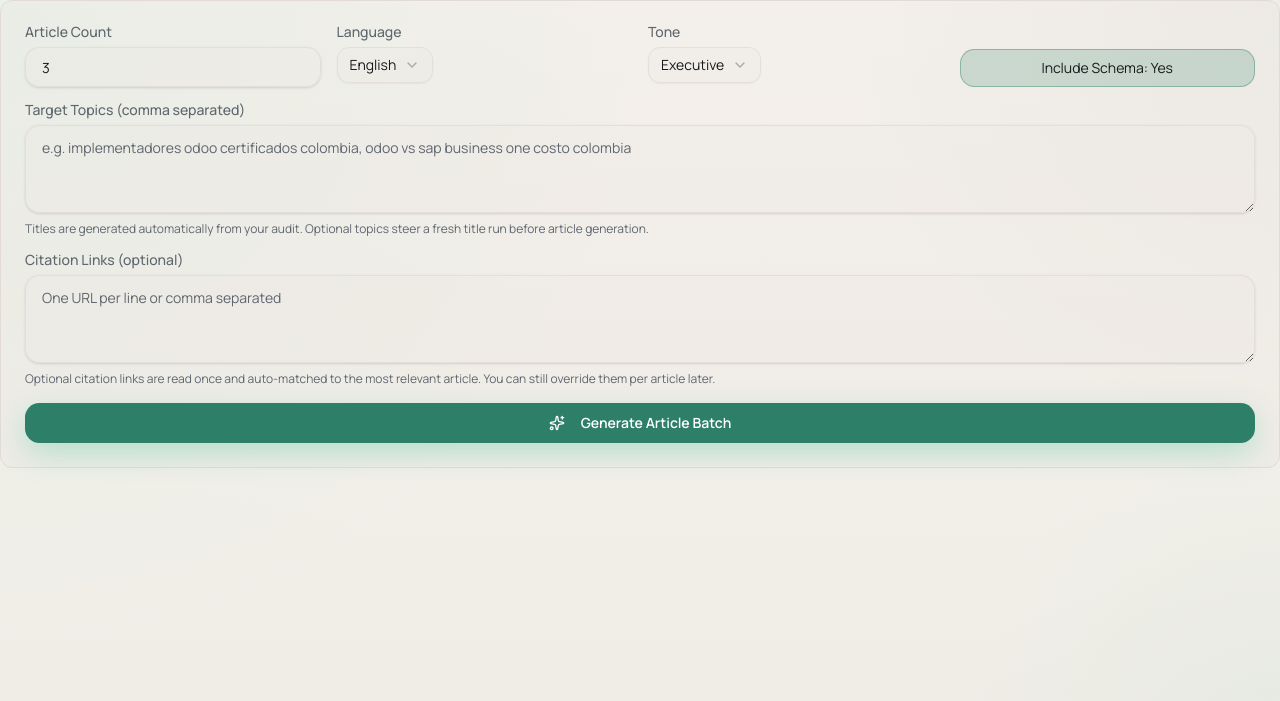
ArticleEngine component › generates a new batch without topics
Click the button "Generate Article Batch" at (640, 423), box [25,403,1255,443]
(page scrolled)
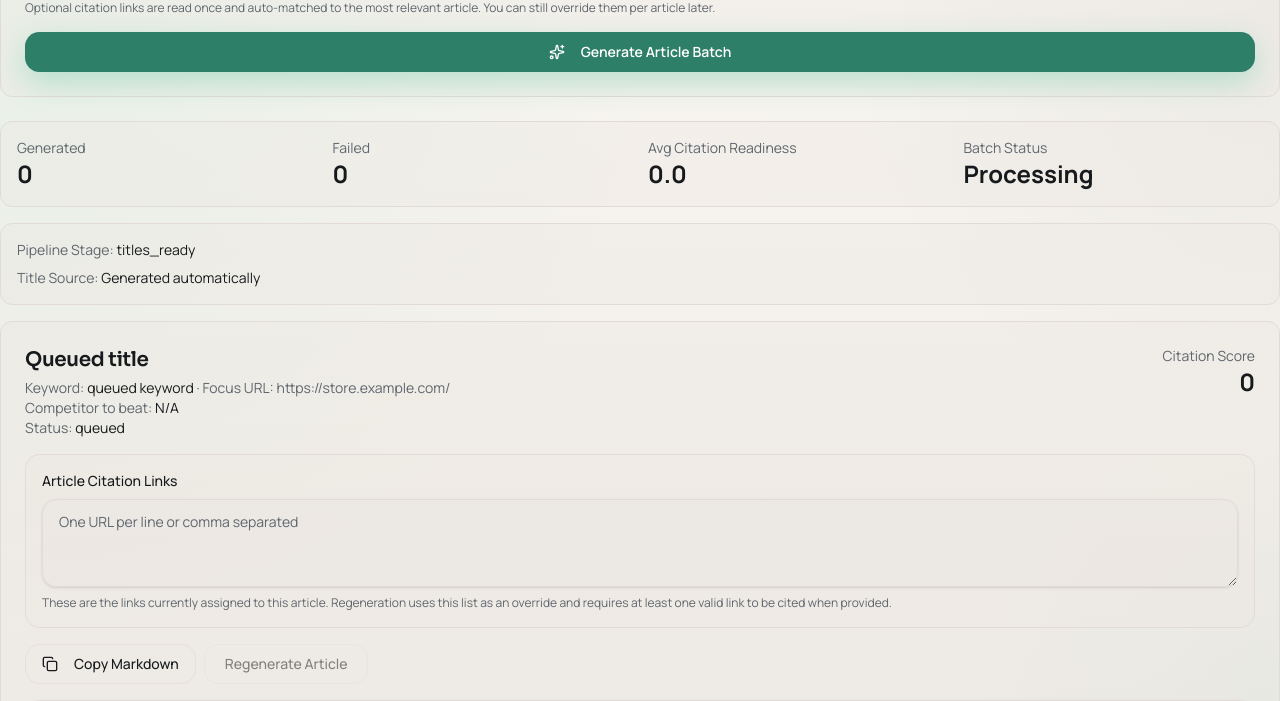
Now the heading "Queued title" is shown, box [25,347,148,372]
